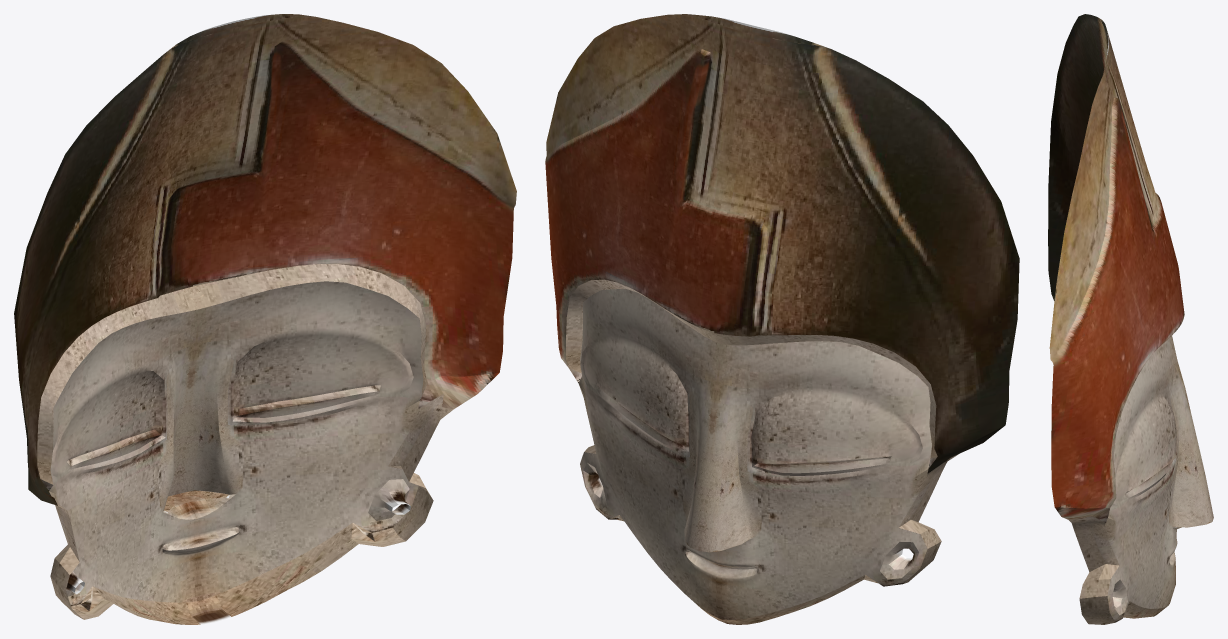
File: mascara manta.fbx
The picture shows the model from 3 angles, left to right: view 1: azimuth 30°, elevation 25°; view 2: azimuth 150°, elevation 25°; view 3: azimuth 270°, elevation 25°; orthographic projection. The views are drawn at different scales.
Parts seen in each view (by area): view 1: mascara manta; view 2: mascara manta; view 3: mascara manta.
Part boxes in pixels (x1,y1,x2,y2): mascara manta: (14,14,516,624); mascara manta: (545,14,1019,624); mascara manta: (1048,14,1213,624).
Bounding box in the file's own units: 17.33 × 5.36 × 20.27.
1 material, 1 textured.
